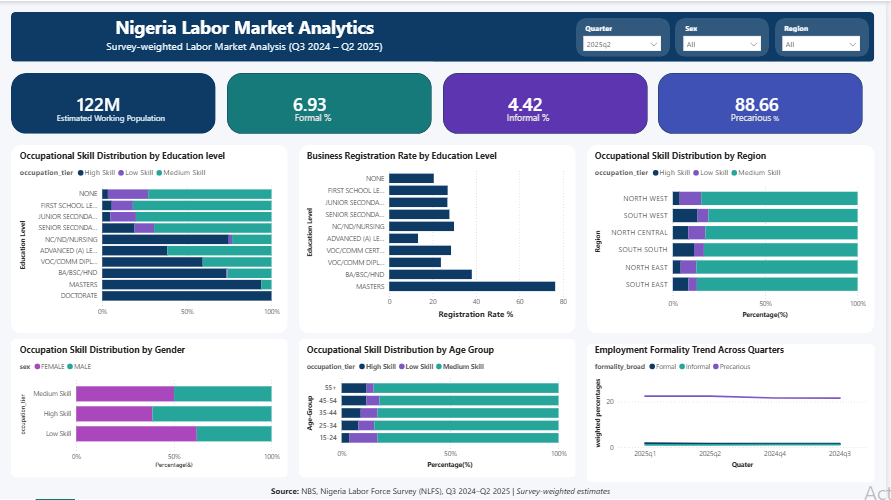

The dashboard page shown, as its layout file describes it:
{"tool":"powerbi","page":{"name":"Page 1","canvas":[1600,900],"ordinal":0},"visuals":[{"type":"shape","box":[20,20,1560,90],"z":0},{"type":"textbox","box":[90.4,19.9,703,79.5],"z":1000},{"type":"shape","box":[1041,30.7,170,70],"z":2000},{"type":"slicer","fields":{"Values":["clean_nfls.quarter"]},"box":[1045,35,160,60],"z":3000},{"type":"shape","box":[1220,30,170,70],"z":4000},{"type":"slicer","fields":{"Values":["clean_nfls.sex"]},"box":[1225,35,160,60],"z":5000},{"type":"shape","box":[1400,30,170,70],"z":6000},{"type":"slicer","fields":{"Values":["clean_nfls.geopolitical_zone"]},"box":[1405,35,160,60],"z":7000},{"type":"shape","box":[20,130,370,110],"z":8000},{"type":"cardVisual","fields":{"Data":["clean_nfls.working age population"]},"box":[110,140,260,90],"z":9000},{"type":"shape","box":[410,130,370,110],"z":10000},{"type":"cardVisual","fields":{"Data":["clean_nfls.Weighted Formal %"]},"box":[500,140,260,90],"z":11000},{"type":"textbox","box":[527.7,195.2,211.4,30.7],"z":12000},{"type":"shape","box":[800,130,370,110],"z":13000},{"type":"cardVisual","fields":{"Data":["clean_nfls.Weighted Informal %"]},"box":[890,140,260,90],"z":14000},{"type":"textbox","box":[889.2,195.2,130.1,30.7],"z":15000},{"type":"shape","box":[1190,130,370,110],"z":16000},{"type":"cardVisual","fields":{"Data":["clean_nfls.Weighted Precarious %"]},"box":[1300,140,260,90],"z":17000},{"type":"textbox","box":[1299.4,195.2,130.1,30.7],"z":18000},{"type":"textbox","box":[90.4,195.2,220.5,30.7],"z":19000},{"type":"shape","box":[20,260,500,340],"z":20000},{"type":"shape","box":[540,260,500,340],"z":21000},{"type":"shape","box":[1060,260,520,340],"z":22000},{"type":"shape","box":[20,610,500,250],"z":23000},{"type":"shape","box":[540,610,500,250],"z":24000},{"type":"shape","box":[1060,620,520,250],"z":25000},{"type":"hundredPercentStackedBarChart","title":"Occupational Skill Distribution by Age Group","fields":{"Category":["clean_nfls.age_group"],"Y":["clean_nfls.Weighted %"],"Series":["clean_nfls.occupation_tier"]},"box":[550,620,480,230],"z":26000},{"type":"textbox","box":[442.8,869.3,706.6,30.7],"z":27000},{"type":"hundredPercentStackedBarChart","title":"Occupational Skill Distribution by Education level","fields":{"Category":["clean_nfls.highest_education"],"Series":["clean_nfls.occupation_tier"],"Y":["clean_nfls.Weighted Count"]},"box":[30,270,480,310],"z":28000},{"type":"hundredPercentStackedBarChart","title":"Occupational Skill Distribution by Region","fields":{"Category":["clean_nfls.geopolitical_zone"],"Y":["clean_nfls.Weighted Count"],"Series":["clean_nfls.occupation_tier"]},"box":[1070,270,500,310],"z":29000},{"type":"clusteredBarChart","title":"Business Registration Rate  by Education Level","fields":{"Category":["clean_nfls.highest_education"],"Y":["clean_nfls.Weighted Registration Rate %"]},"box":[550,270,480,310],"z":30000},{"type":"lineChart","title":"Employment Formality Trend Across Quarters","fields":{"Category":["clean_nfls.quarter"],"Series":["clean_nfls.formality_broad"],"Y":["clean_nfls.Weighted %"]},"box":[1070,620,500,230],"z":31000},{"type":"hundredPercentStackedBarChart","title":"Occupation Skill Distribution by Gender","fields":{"Category":["clean_nfls.occupation_tier"],"Y":["clean_nfls.Weighted Count"],"Series":["clean_nfls.sex"]},"box":[30,620,480,230],"z":32000}]}

Visuals, with their boxes in screenshot pixels (x1, y1, x2, y2), scaled from the page's 1600x900 canvas onto the 891x500 screenshot:
shape: bbox=[11, 11, 880, 61]
textbox: bbox=[50, 11, 442, 55]
shape: bbox=[580, 17, 674, 56]
slicer - clean_nfls.quarter: bbox=[582, 19, 671, 53]
shape: bbox=[679, 17, 774, 56]
slicer - clean_nfls.sex: bbox=[682, 19, 771, 53]
shape: bbox=[780, 17, 874, 56]
slicer - clean_nfls.geopolitical_zone: bbox=[782, 19, 872, 53]
shape: bbox=[11, 72, 217, 133]
cardVisual - clean_nfls.working age population: bbox=[61, 78, 206, 128]
shape: bbox=[228, 72, 434, 133]
cardVisual - clean_nfls.Weighted Formal %: bbox=[278, 78, 423, 128]
textbox: bbox=[294, 108, 412, 126]
shape: bbox=[446, 72, 652, 133]
cardVisual - clean_nfls.Weighted Informal %: bbox=[496, 78, 640, 128]
textbox: bbox=[495, 108, 568, 126]
shape: bbox=[663, 72, 869, 133]
cardVisual - clean_nfls.Weighted Precarious %: bbox=[724, 78, 869, 128]
textbox: bbox=[724, 108, 796, 126]
textbox: bbox=[50, 108, 173, 126]
shape: bbox=[11, 144, 290, 333]
shape: bbox=[301, 144, 579, 333]
shape: bbox=[590, 144, 880, 333]
shape: bbox=[11, 339, 290, 478]
shape: bbox=[301, 339, 579, 478]
shape: bbox=[590, 344, 880, 483]
"Occupational Skill Distribution by Age Group" hundredPercentStackedBarChart: bbox=[306, 344, 574, 472]
textbox: bbox=[247, 483, 640, 499]
"Occupational Skill Distribution by Education level" hundredPercentStackedBarChart: bbox=[17, 150, 284, 322]
"Occupational Skill Distribution by Region" hundredPercentStackedBarChart: bbox=[596, 150, 874, 322]
"Business Registration Rate  by Education Level" clusteredBarChart: bbox=[306, 150, 574, 322]
"Employment Formality Trend Across Quarters" lineChart: bbox=[596, 344, 874, 472]
"Occupation Skill Distribution by Gender" hundredPercentStackedBarChart: bbox=[17, 344, 284, 472]
